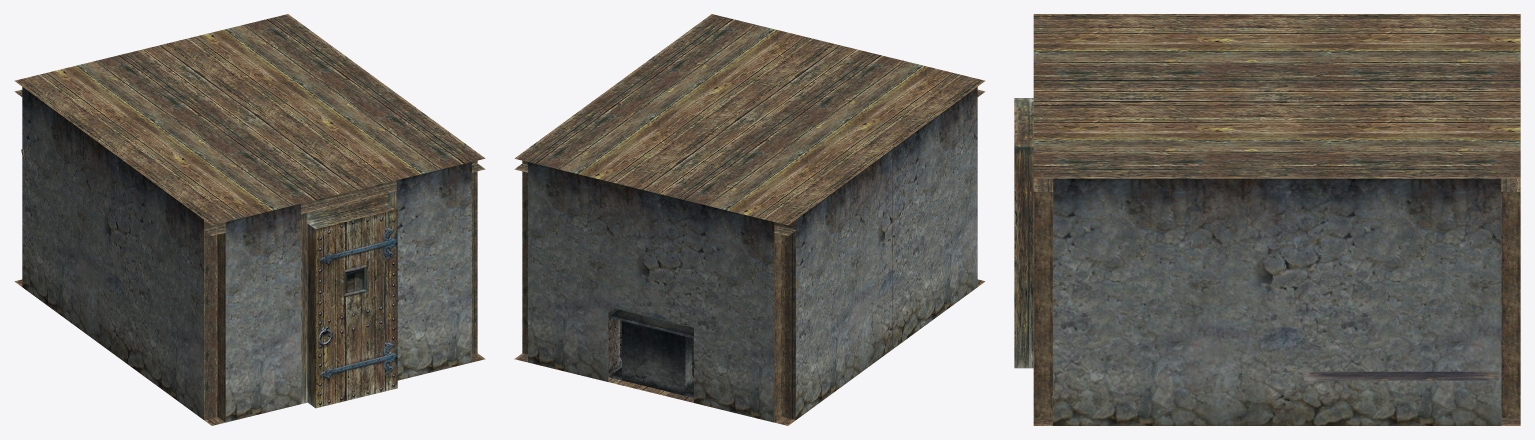
3 renders of one model, left to right at view 1: azimuth 30°, elevation 25°; view 2: azimuth 150°, elevation 25°; view 3: azimuth 270°, elevation 25°, orthographic. The views are drawn at different scales.
Parts seen in each view (by area): view 1: tn3_r1_in-col; view 2: tn3_r1_in-col; view 3: tn3_r1_in-col.
Part boxes in pixels (bbox=[...]): tn3_r1_in-col: bbox=[14, 14, 485, 425]; tn3_r1_in-col: bbox=[514, 14, 985, 425]; tn3_r1_in-col: bbox=[1014, 14, 1520, 425].
Size of the model in its own units: 4.02 by 2.82 by 5.2.
17 materials, 17 textured.
